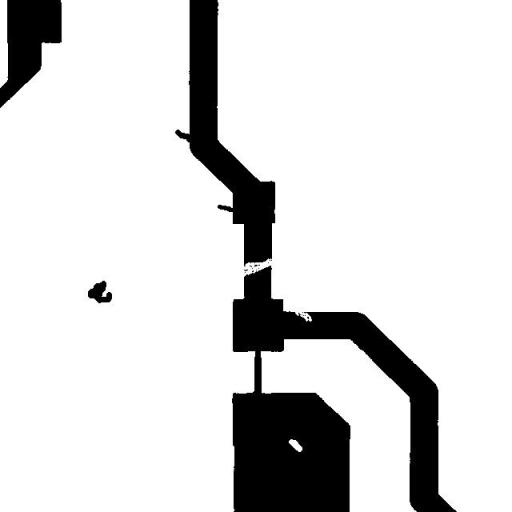copper: (80, 273, 119, 310)
mousebite: (287, 303, 319, 329)
open: (230, 250, 286, 285)
pin-hole: (280, 431, 310, 459)
short: (245, 340, 269, 407)
spur: (167, 122, 199, 150), (210, 196, 244, 222)
